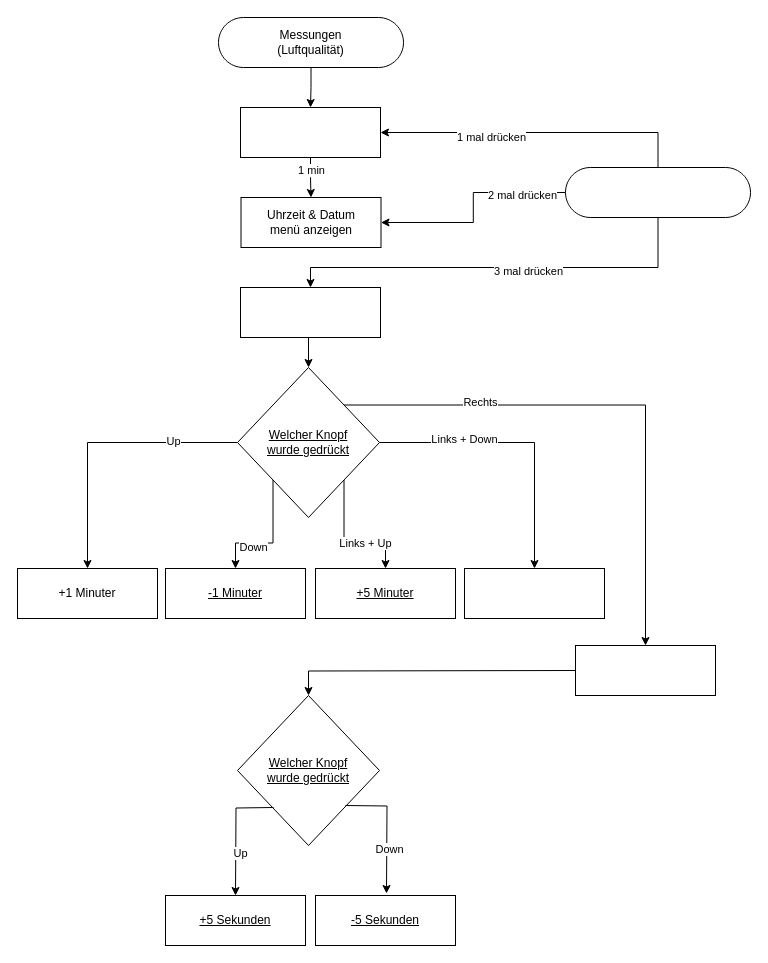
The diagram is 768 pixels wide and 963 high, and some of its shapes have lost their labels. Each missing label, with the centre of its shape:
"-5 Minuter" goes at (x=534, y=593).
"Knopf drücken" goes at (x=657, y=192).
"Luftqualität menü anzeigen" goes at (x=310, y=132).
"Timer Einstellen (Sekunden)" goes at (x=645, y=670).
"Timer Einstellen menü (Minuten)" goes at (x=310, y=312).
